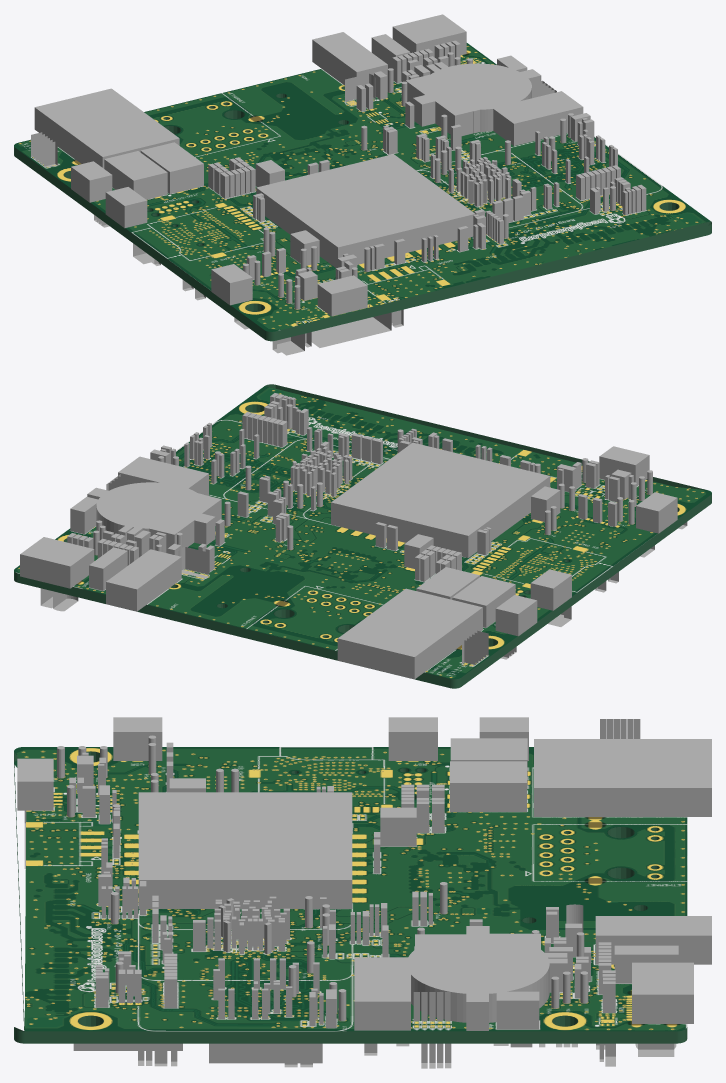
File: without-display-camera.glb
The picture shows the model from 3 angles, top to bottom: view 1: azimuth 30°, elevation 25°; view 2: azimuth 150°, elevation 25°; view 3: azimuth 270°, elevation 25°; orthographic projection. The views are drawn at different scales.
Visible parts, largest first — view 1: Box0, J21, J2, J10, J19, J13, L2, J14, L1, J18, U5, SW2 (+6 smaller); view 2: Box0, J21, J2, J10, J13, J14, J19, L2, SW1, SW3, SW2, J18 (+6 smaller); view 3: Box0, J21, J2, J10, J13, J19, L1, J14, SW2, SW3, J18, L2 (+7 smaller).
Boxes of the visible parts, <box> form: Box0: <box>14,43,711,341</box>; J21: <box>256,154,475,268</box>; J2: <box>34,88,179,168</box>; J10: <box>405,63,541,135</box>; J19: <box>493,91,583,145</box>; J13: <box>312,32,387,85</box>; L2: <box>104,151,167,199</box>; J14: <box>392,14,466,56</box>; L1: <box>140,142,203,194</box>; J18: <box>317,275,367,316</box>; U5: <box>311,306,391,347</box>; SW2: <box>105,187,147,228</box>; Box0: <box>14,384,711,688</box>; J21: <box>331,442,550,557</box>; J2: <box>337,588,482,679</box>; J10: <box>87,482,221,553</box>; J13: <box>106,549,181,611</box>; J14: <box>20,537,94,588</box>; J19: <box>118,456,208,495</box>; L2: <box>452,576,515,627</box>; SW1: <box>495,595,537,636</box>; SW3: <box>636,492,677,533</box>; SW2: <box>530,569,571,610</box>; J18: <box>599,446,649,486</box>; Box0: <box>14,747,687,1043</box>; J21: <box>138,792,352,908</box>; J2: <box>534,739,711,816</box>; J10: <box>406,926,549,1030</box>; J13: <box>595,916,711,964</box>; J19: <box>354,957,410,1030</box>; L1: <box>450,761,526,811</box>; J14: <box>632,962,693,1023</box>; SW2: <box>388,717,437,760</box>; SW3: <box>113,717,162,760</box>; J18: <box>17,758,53,810</box>; L2: <box>450,738,527,788</box>.
Bounding box in the file's own units: 80.11 × 9.22 × 82.95.
Materials: 5 (2 with a texture image).
